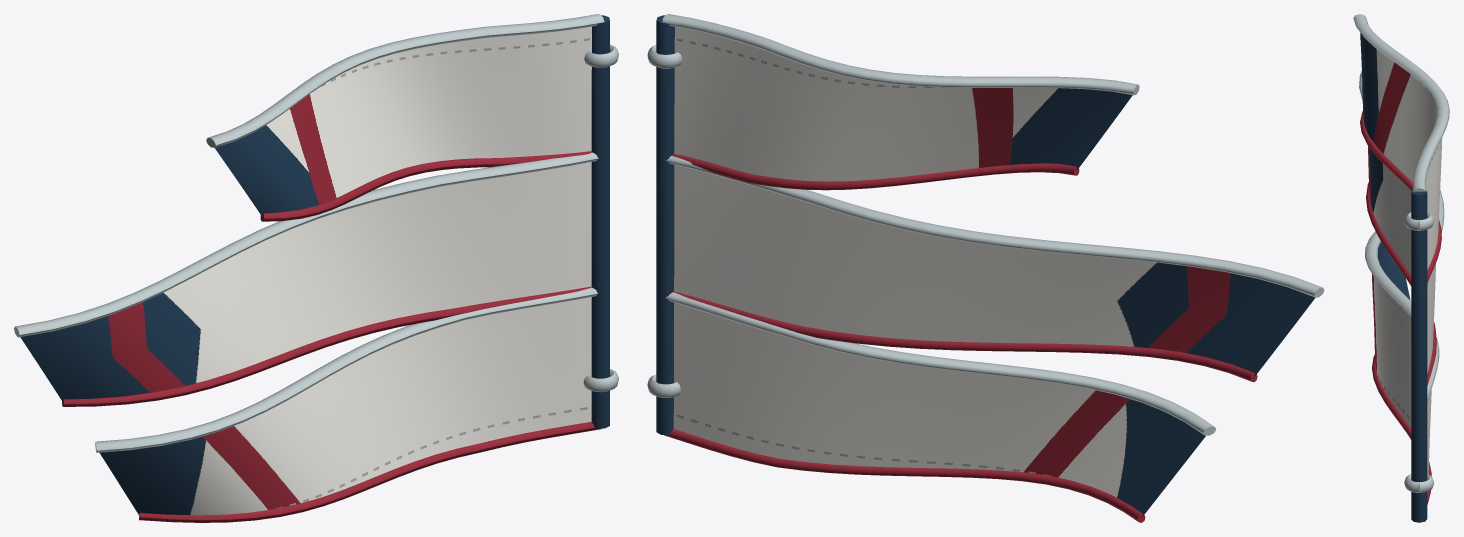
The model's file is Pennant_24_SSR_白銀・三段返し.glb.
3 renders of one model, left to right at view 1: azimuth 30°, elevation 25°; view 2: azimuth 150°, elevation 25°; view 3: azimuth 270°, elevation 25°, orthographic. The views are drawn at different scales.
Visible parts, largest first — view 1: Pennant_24_SSR; view 2: Pennant_24_SSR; view 3: Pennant_24_SSR.
Part boxes in pixels (<box>): Pennant_24_SSR: <box>14,14,618,522</box>; Pennant_24_SSR: <box>647,14,1324,522</box>; Pennant_24_SSR: <box>1353,14,1449,522</box>.
Bounding box in the file's own units: 0.293 × 0.1873 × 0.048.
3 materials, 3 textured.
